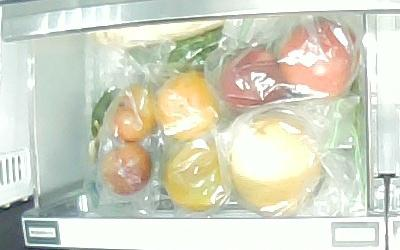apple_vinyl: (280, 17, 360, 97), (218, 47, 286, 109)
grapefruit_vinyl: (229, 113, 320, 213)
persimmon_vinyl: (164, 142, 233, 212), (155, 71, 220, 142)
prune_vinyl: (108, 84, 159, 142), (101, 141, 152, 196)
